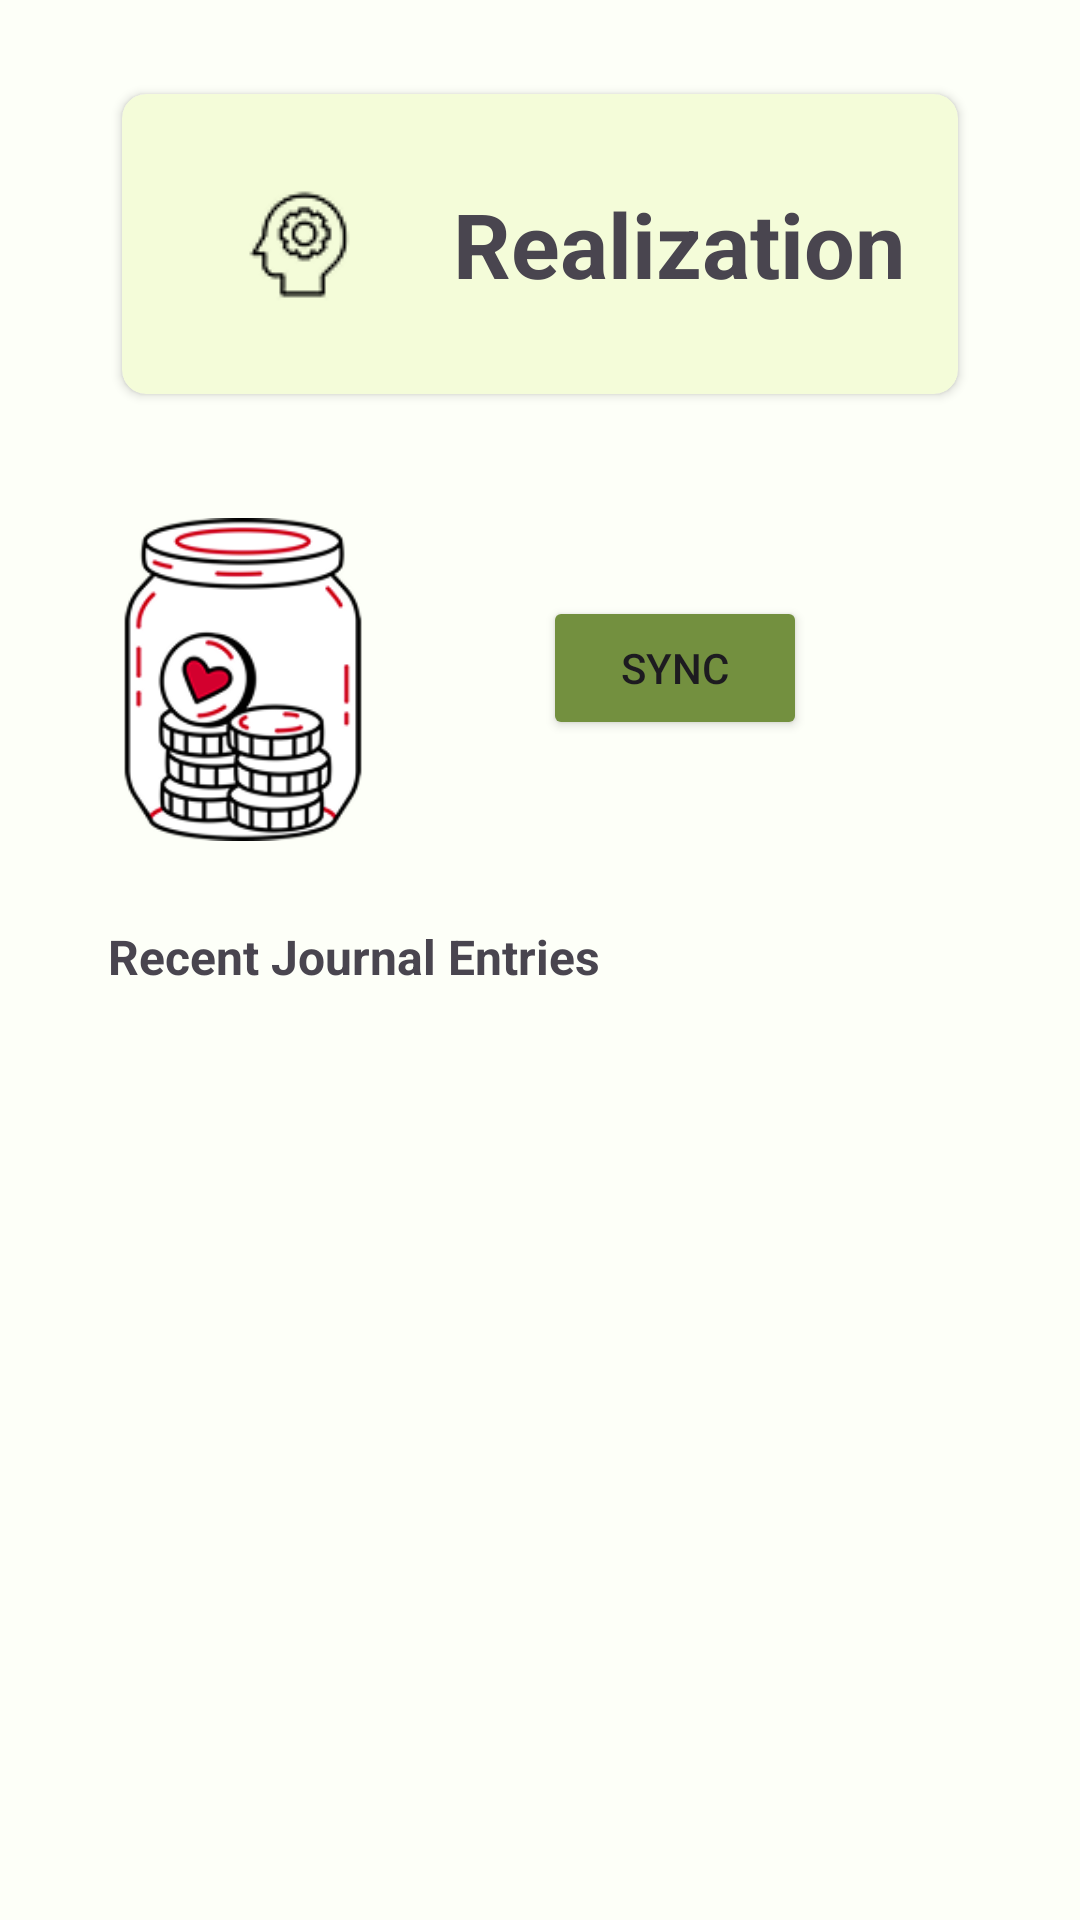

Icons on this 1080×1920 Android screen, each with the point to tap as [x,y]:
Head icon: [298,244]
Jar icon: [243,679]
